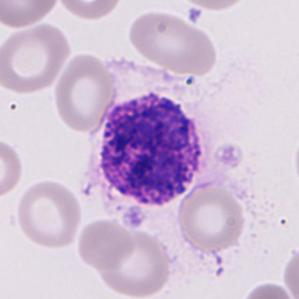Basophil: (73, 82, 213, 231)
Platelets: (212, 141, 245, 169), (186, 6, 204, 24)
RBC: (124, 7, 219, 76), (92, 227, 173, 298), (0, 20, 73, 95), (52, 50, 117, 134), (175, 180, 248, 252), (14, 176, 84, 250), (74, 217, 136, 270), (0, 0, 61, 30), (0, 135, 25, 200), (55, 0, 126, 22), (239, 278, 296, 299), (177, 0, 254, 13), (281, 245, 299, 299), (182, 3, 231, 20), (292, 130, 299, 194)
